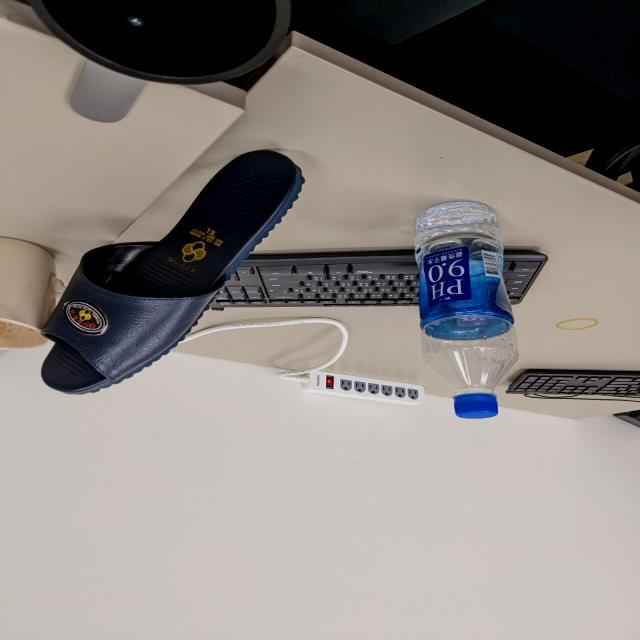bottle: (393, 197, 532, 426)
